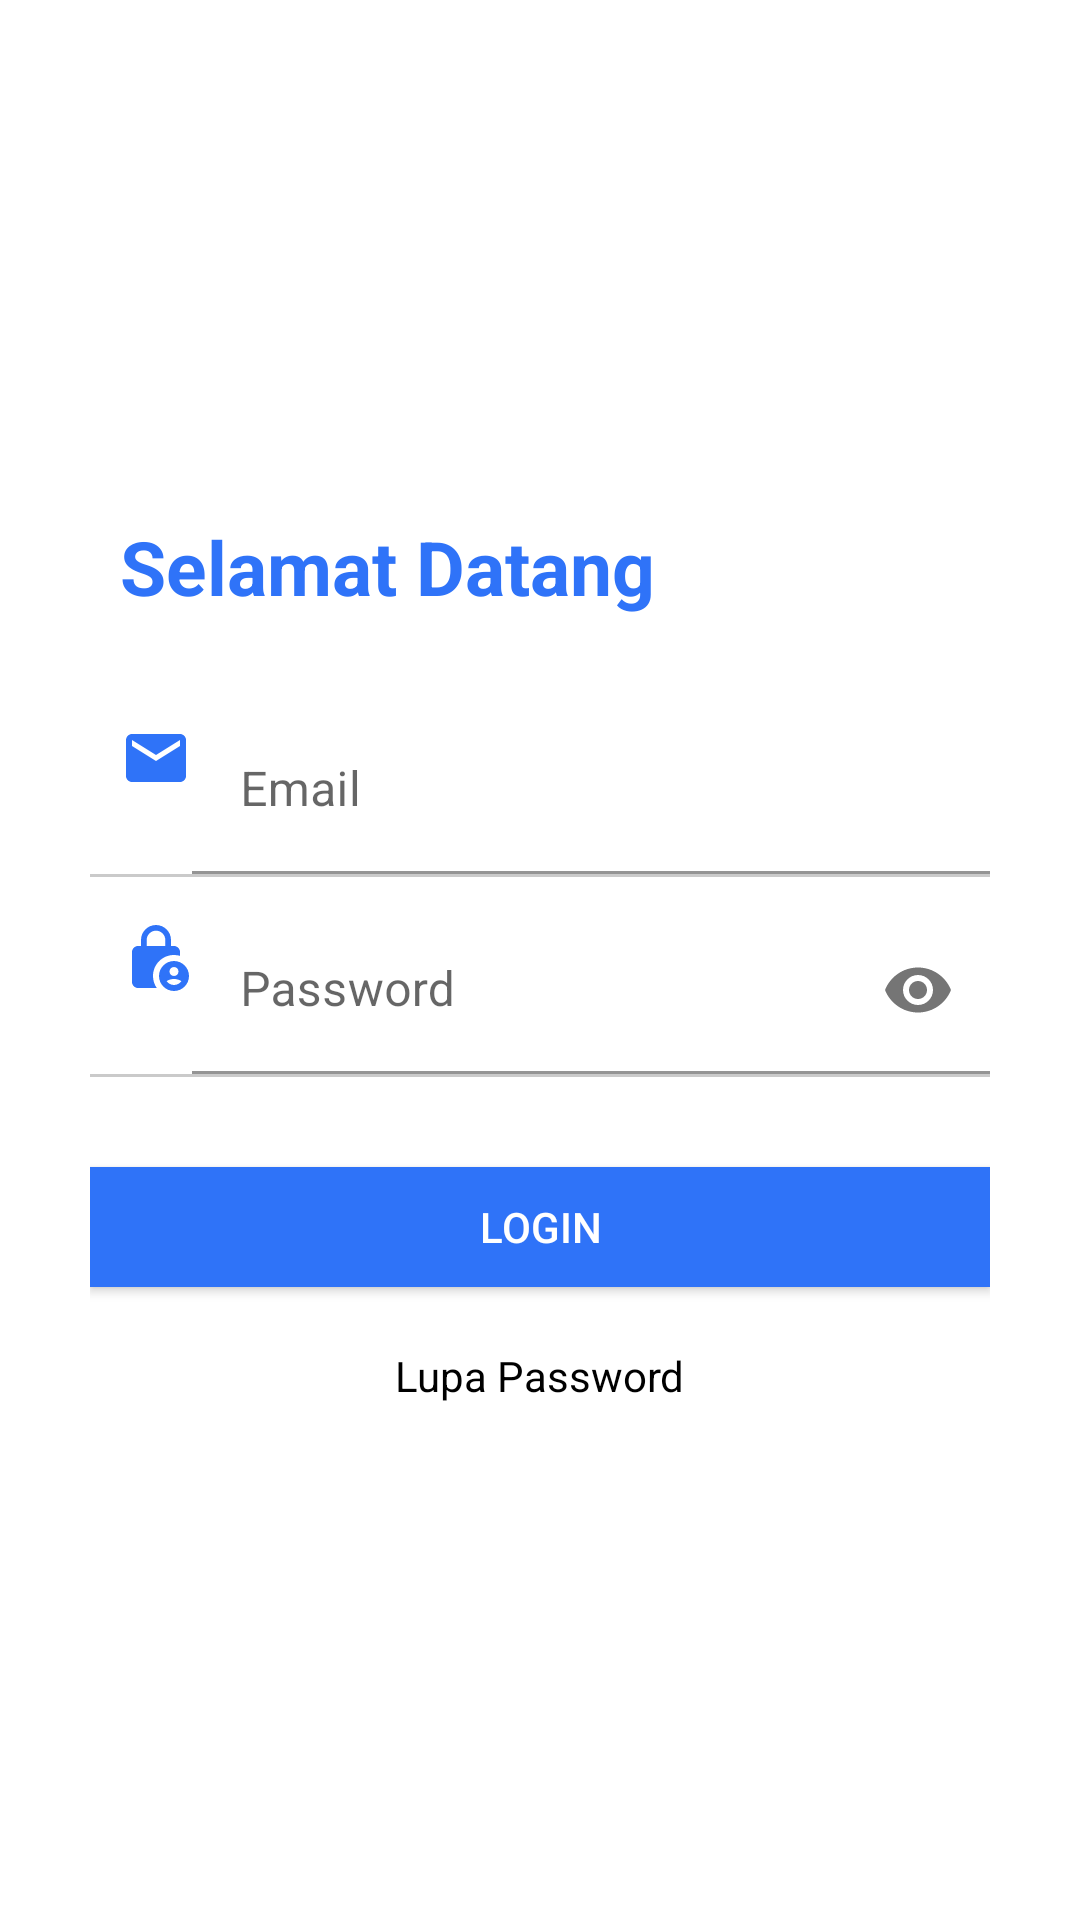

Named icons in this screenshot (1080px×1920px) and their bounding boxes, [x1=x1, y1=y1, x2=x2, y2=y2]:
lock person: [x1=132, y1=925, x2=189, y2=991]
